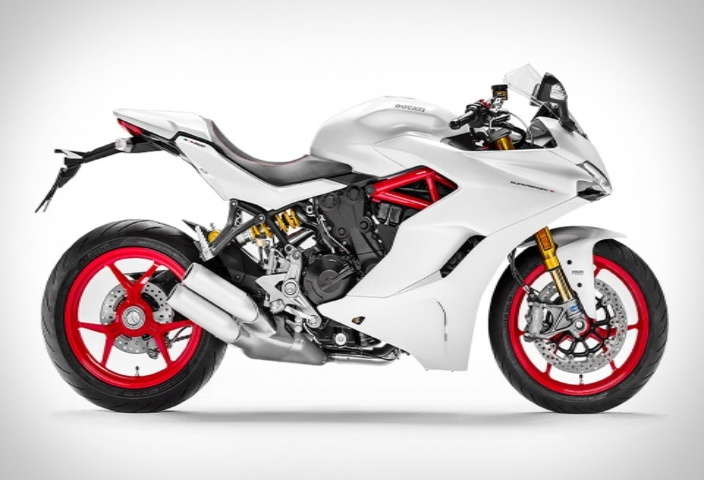motorcycle: (34, 71, 673, 428)
